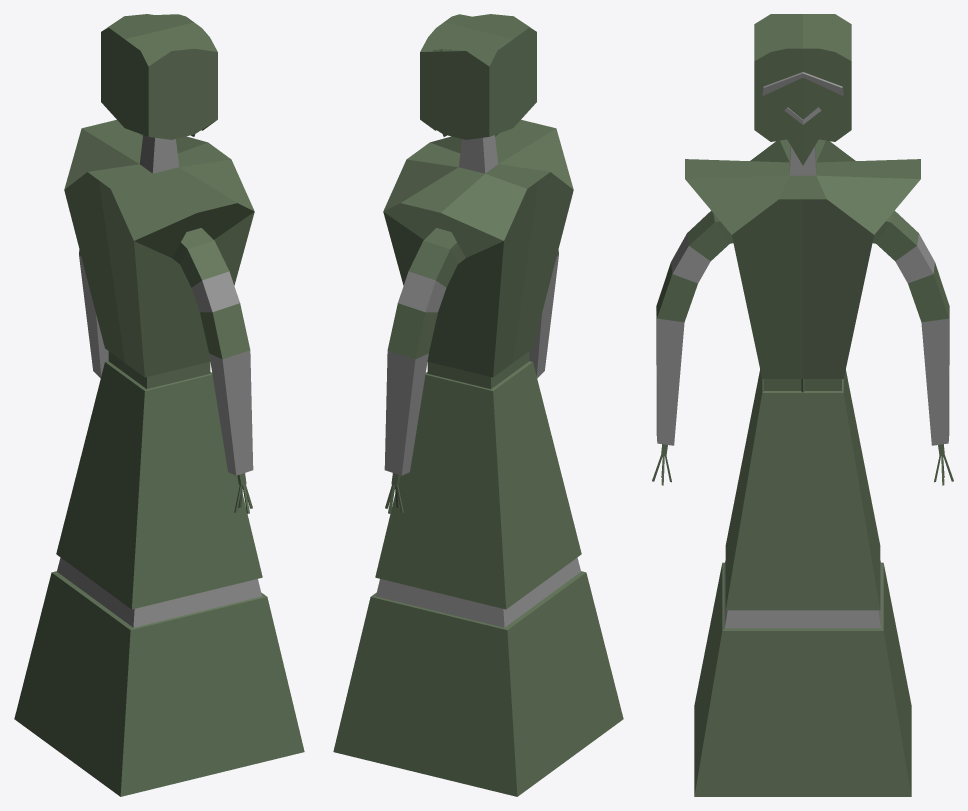
File: barBot.fbx
3 views of the same model, side by side, from view 1: azimuth 30°, elevation 25°; view 2: azimuth 150°, elevation 25°; view 3: azimuth 270°, elevation 25° (orthographic). The views are drawn at different scales.
Parts seen in each view (by area): view 1: Plane.001; view 2: Plane.001; view 3: Plane.001.
Boxes of the visible parts, box(x1,y1,x2,y2) form: Plane.001: box(14, 14, 304, 796); Plane.001: box(333, 14, 623, 796); Plane.001: box(652, 14, 953, 796).
Bounding box in the file's own units: 0.1607 × 0.5879 × 0.2234.
